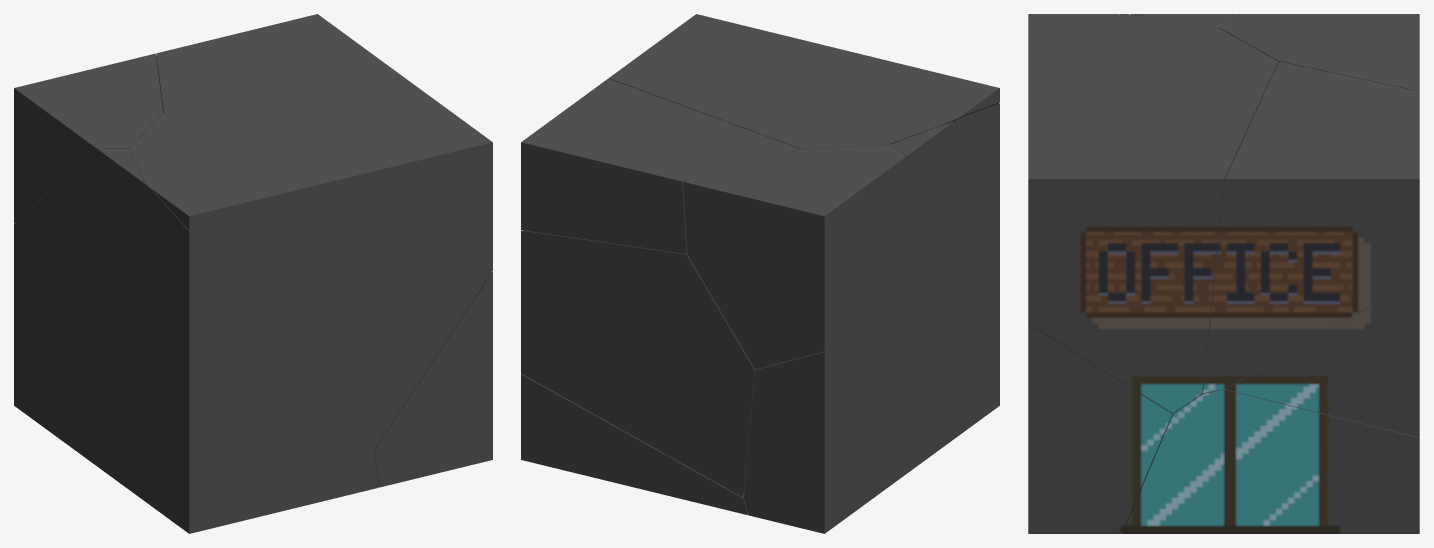
The model's file is GlassBuildingV128x128_Ground01_break.fbx.
3 renders of one model, left to right at view 1: azimuth 30°, elevation 25°; view 2: azimuth 150°, elevation 25°; view 3: azimuth 270°, elevation 25°, orthographic. The views are drawn at different scales.
Parts seen in each view (by area): view 1: Ground01Break04, Ground01Break06, Ground01Break05, Ground01Break07, Ground01Break03, Ground01Break08; view 2: Ground01Break01, Ground01Break05, Ground01Break03, Ground01Break04, Ground01Break07, Ground01Break06, Ground01Break02; view 3: Ground01Break04, Ground01Break07, Ground01Break02, Ground01Break08, Ground01Break01, Ground01Break03, Ground01Break05.
Boxes of the visible parts, left/top/right/bottom form: Ground01Break04: left=129, top=78, right=492, bottom=448; Ground01Break06: left=70, top=183, right=378, bottom=533; Ground01Break05: left=14, top=148, right=149, bottom=445; Ground01Break07: left=156, top=14, right=404, bottom=113; Ground01Break03: left=14, top=53, right=163, bottom=222; Ground01Break08: left=371, top=272, right=492, bottom=487; Ground01Break01: left=521, top=230, right=755, bottom=497; Ground01Break05: left=744, top=121, right=954, bottom=533; Ground01Break03: left=683, top=144, right=906, bottom=369; Ground01Break04: left=608, top=14, right=999, bottom=149; Ground01Break07: left=521, top=78, right=800, bottom=254; Ground01Break06: left=880, top=103, right=999, bottom=492; Ground01Break02: left=521, top=374, right=747, bottom=514; Ground01Break04: left=1028, top=14, right=1278, bottom=413; Ground01Break07: left=1203, top=61, right=1419, bottom=392; Ground01Break02: left=1121, top=389, right=1419, bottom=533; Ground01Break08: left=1028, top=324, right=1172, bottom=533; Ground01Break01: left=1225, top=277, right=1419, bottom=437; Ground01Break03: left=1219, top=14, right=1419, bottom=91; Ground01Break05: left=1130, top=14, right=1235, bottom=27.
Size of the model in its own units: 100 by 100 by 100.
1 material, 1 textured.
